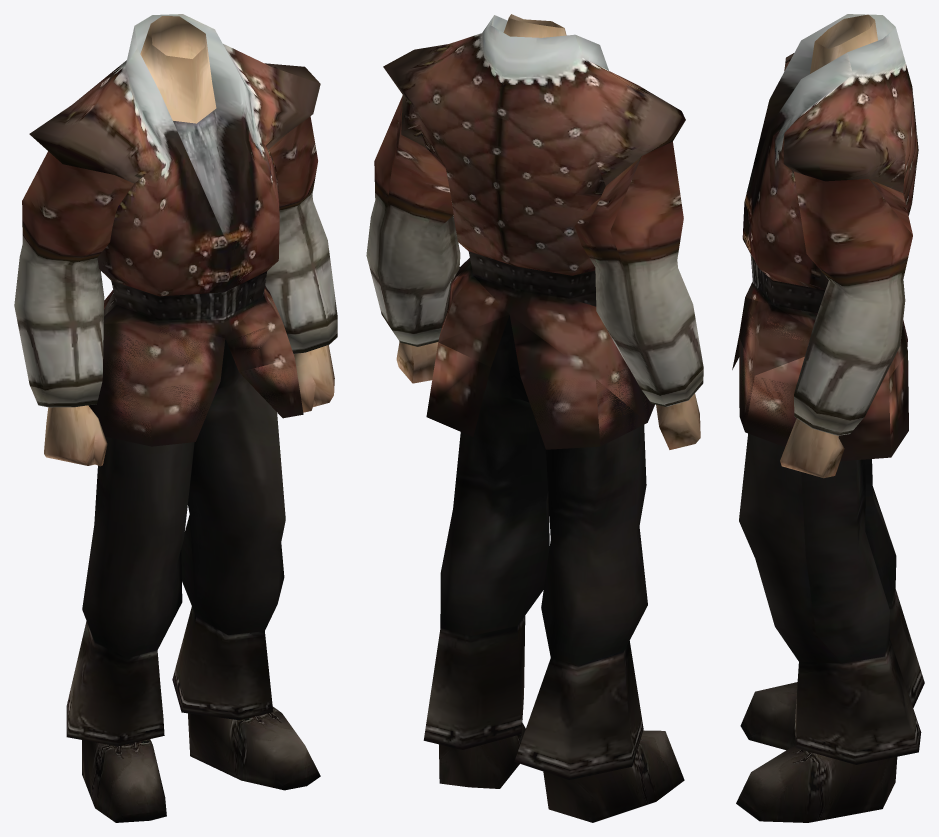
Rendered from ARMOR_KM_VLK_04.glb.
The picture shows the model from 3 angles, left to right: view 1: azimuth 30°, elevation 25°; view 2: azimuth 150°, elevation 25°; view 3: azimuth 270°, elevation 25°; orthographic projection. The views are drawn at different scales.
Parts seen in each view (by area): view 1: ARMOR_KM_VLK_04; view 2: ARMOR_KM_VLK_04; view 3: ARMOR_KM_VLK_04.
Part boxes in pixels (x1,y1,x2,y2): ARMOR_KM_VLK_04: [14, 14, 337, 822]; ARMOR_KM_VLK_04: [366, 14, 703, 822]; ARMOR_KM_VLK_04: [732, 14, 924, 822].
Size of the model in its own units: 0.6986 by 1.69 by 0.3904.
Materials: 2 (2 with a texture image).
